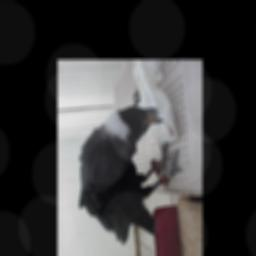Crow: (73, 99, 187, 249)
